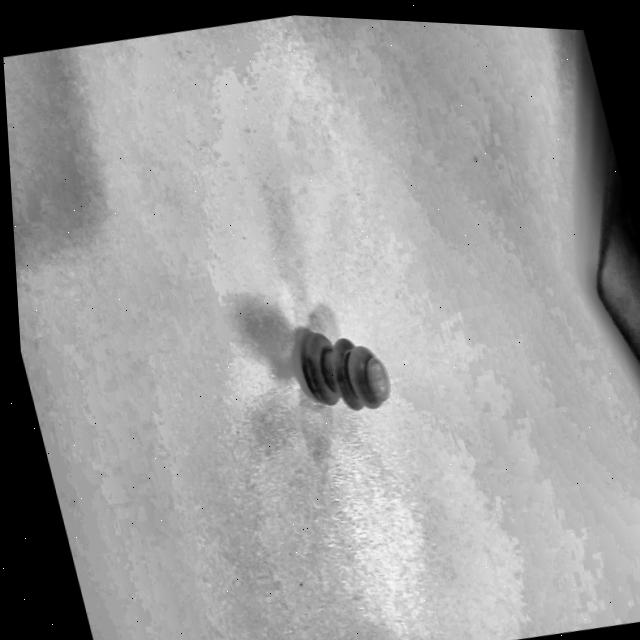white-bishop: (265, 275, 428, 484)
